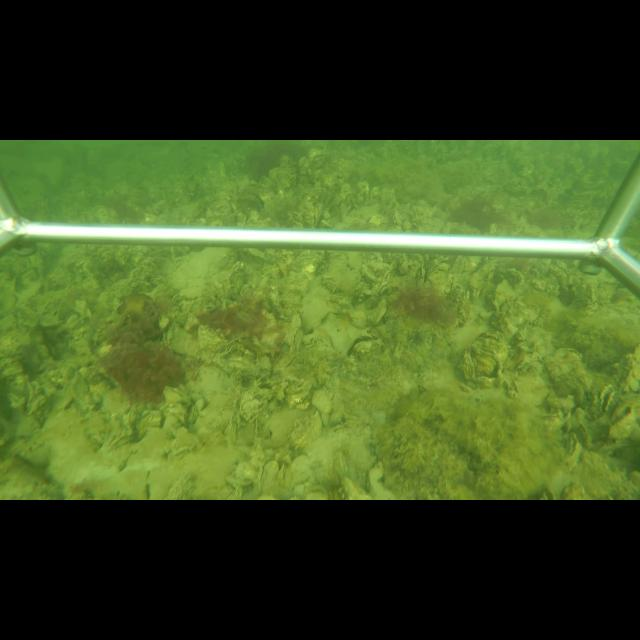Oyster-Closed: (280, 422, 379, 490), (283, 310, 305, 358), (492, 279, 517, 314)
Oyster-Open: (602, 406, 634, 448), (599, 383, 615, 415)
